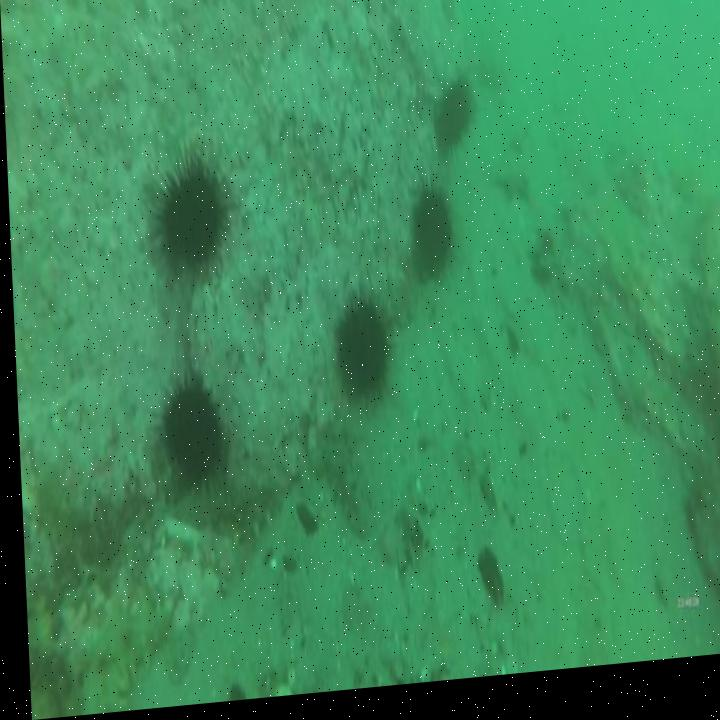echinus: (144, 150, 232, 301), (144, 368, 224, 500), (326, 297, 393, 414), (404, 187, 455, 300), (427, 75, 476, 172)
holothurian: (48, 592, 173, 695)
